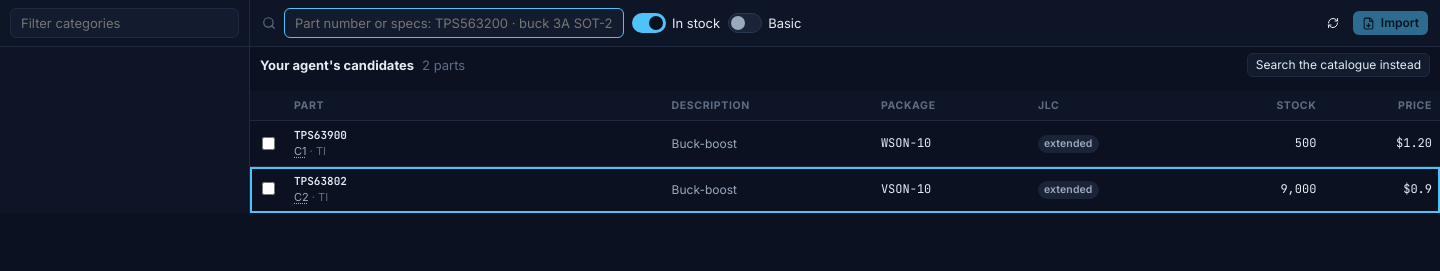
CatalogView candidates › shows the agent's candidates with its pick, then a normal search
Expected: the text "Your agent's candidates" is shown, x1=260 y1=56 x2=414 y2=74
Click the button "Search the catalogue instead" at {"x": 1338, "y": 65}, box x1=1247 y1=53 x2=1430 y2=77
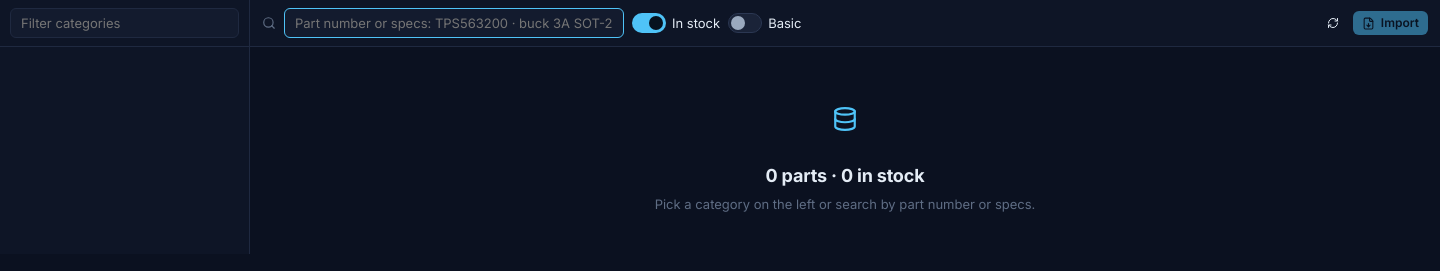
Expected: the text "Your agent's candidates" is gone
